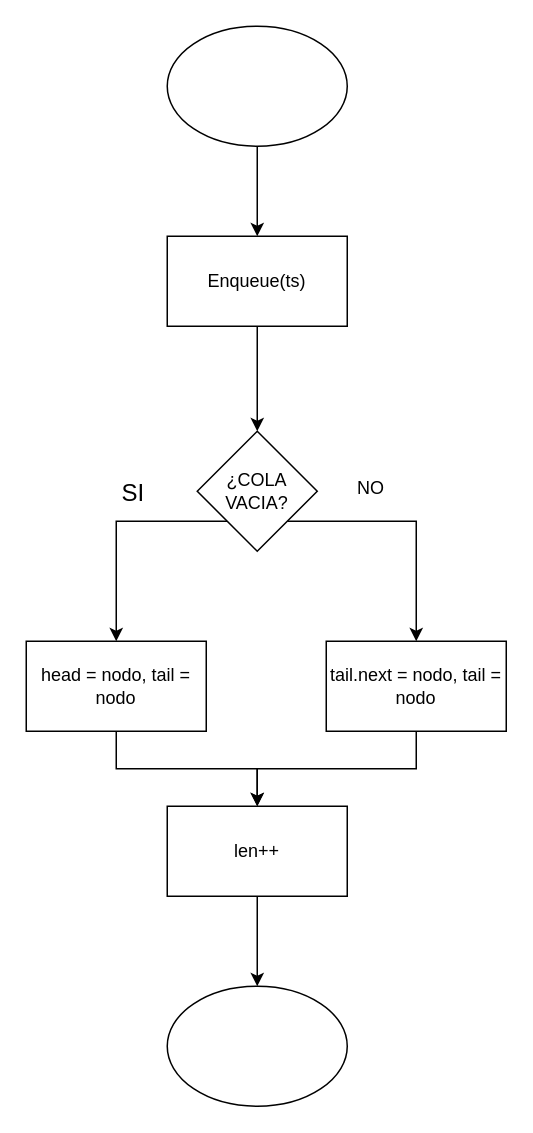
This 533x1133 diagram has some shape labels left out. The shapes that lost their labels are listed below. From the top down, each one's box as (x1, y1, x2, y2) in pixels, then its label:
(166, 25, 347, 146): INICIO
(166, 985, 347, 1106): FIN
